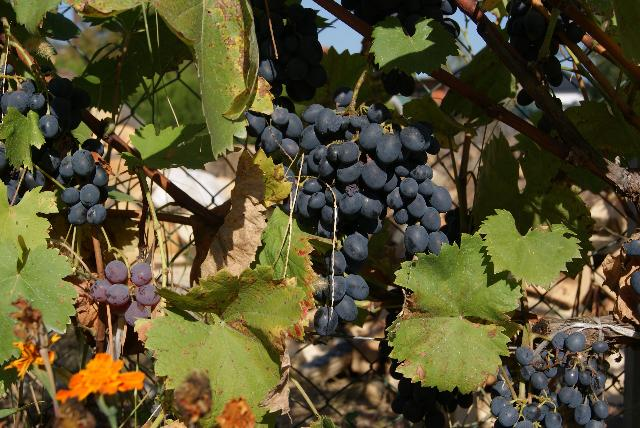grapes: (285, 104, 452, 335), (491, 331, 609, 428), (90, 260, 160, 325)
